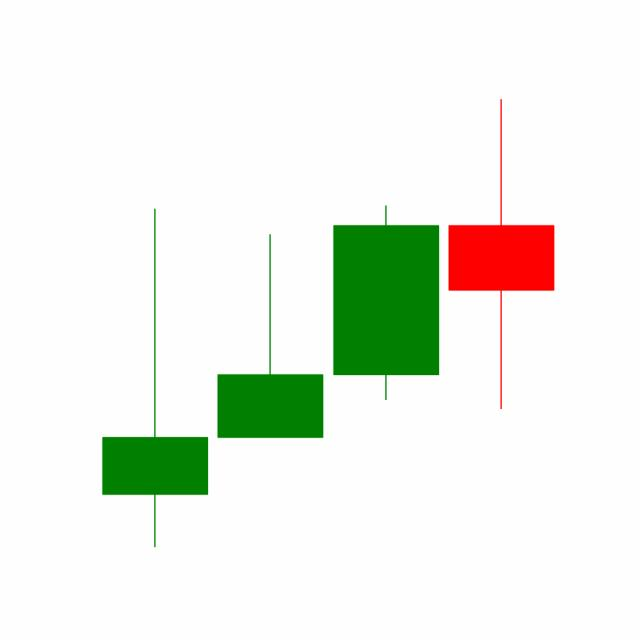Marubozu: (328, 203, 444, 402)
